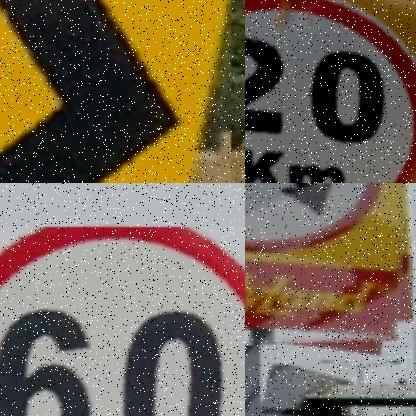Road Divides: (245, 183, 407, 342)
Speed Limit (60 kmph): (0, 228, 245, 416)
Speed Limit -20 kmph-: (245, 0, 416, 183)
